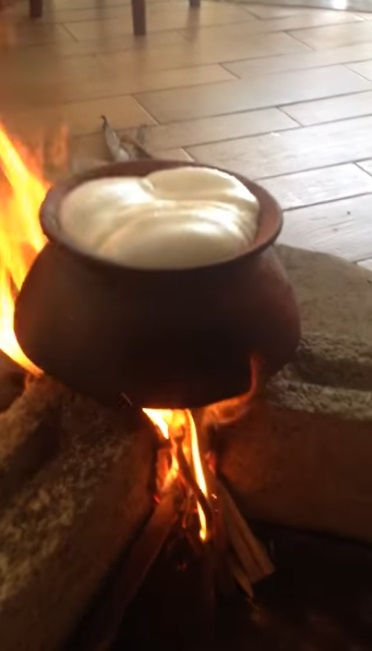Boiled: (35, 161, 294, 379)
